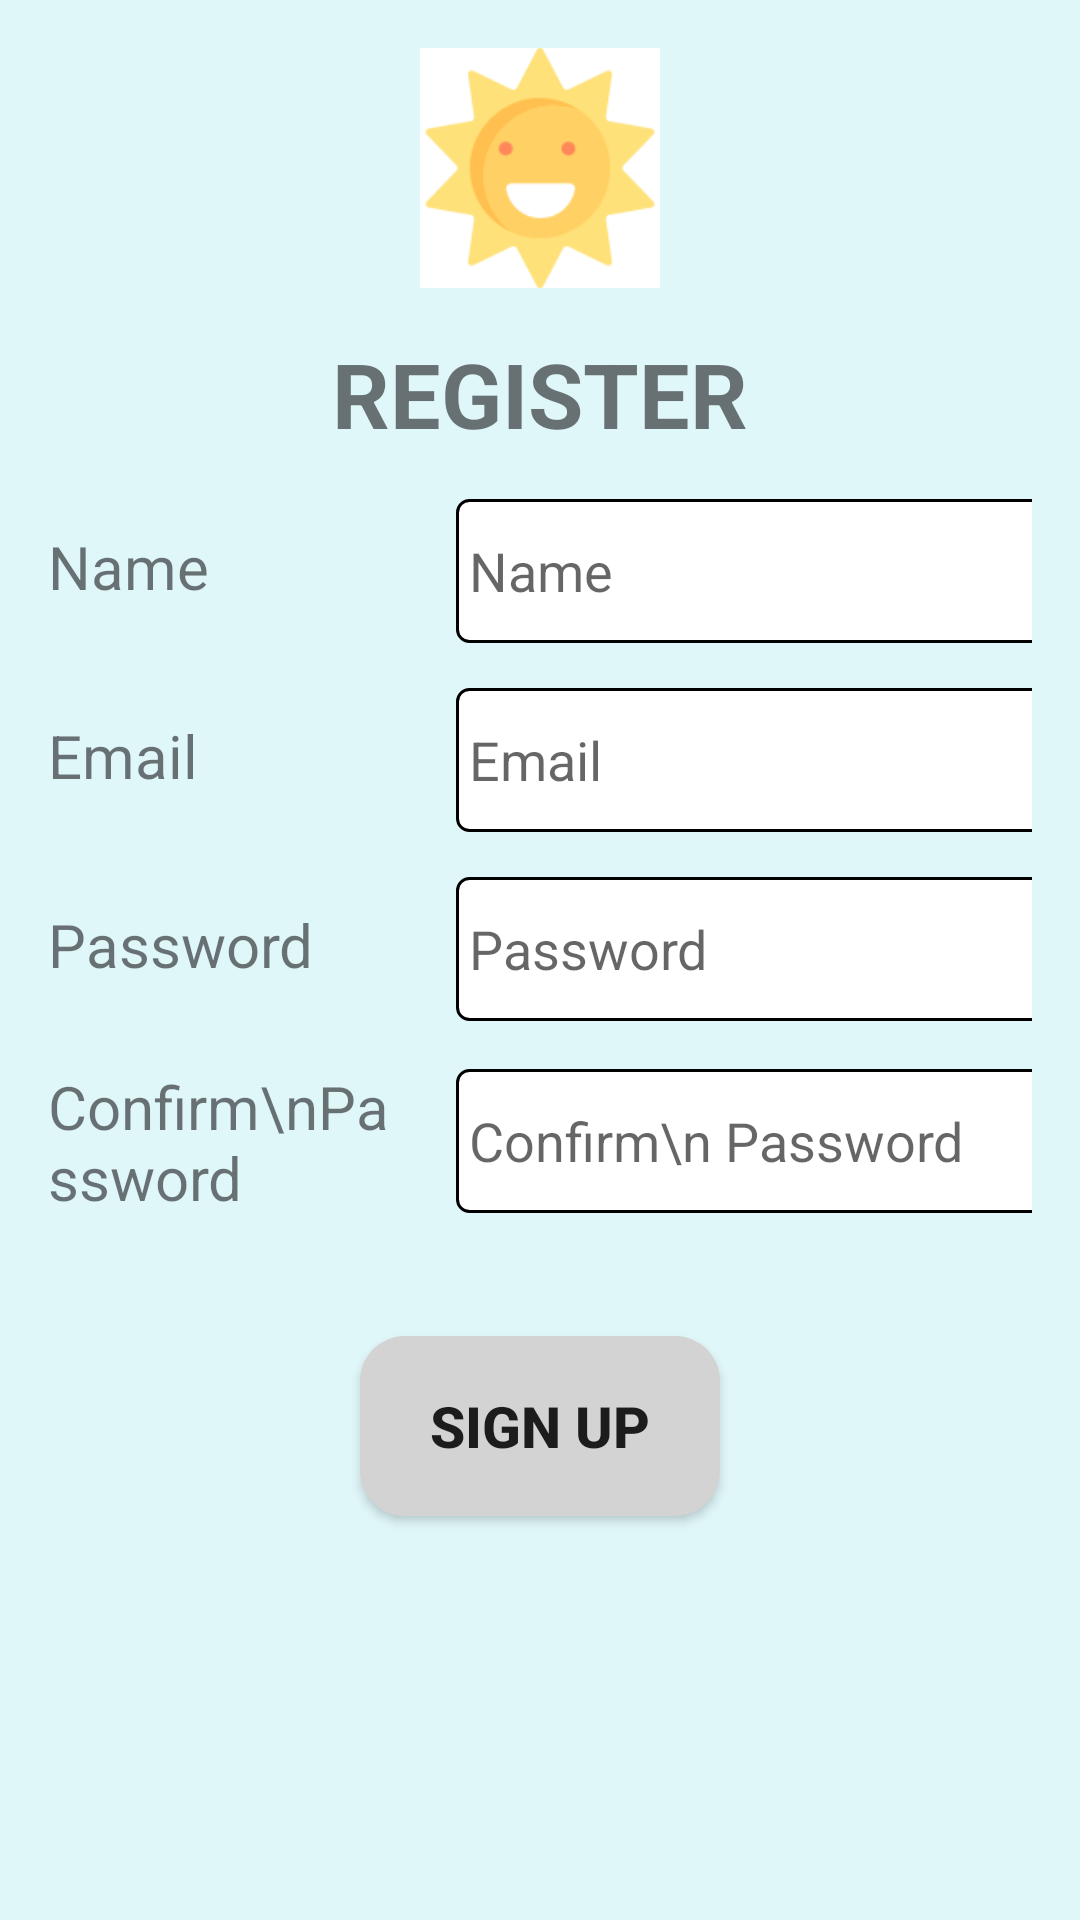

Where to tap for icons on this 1080x1920 app screen, as point (x, y):
sun: point (540, 168)
